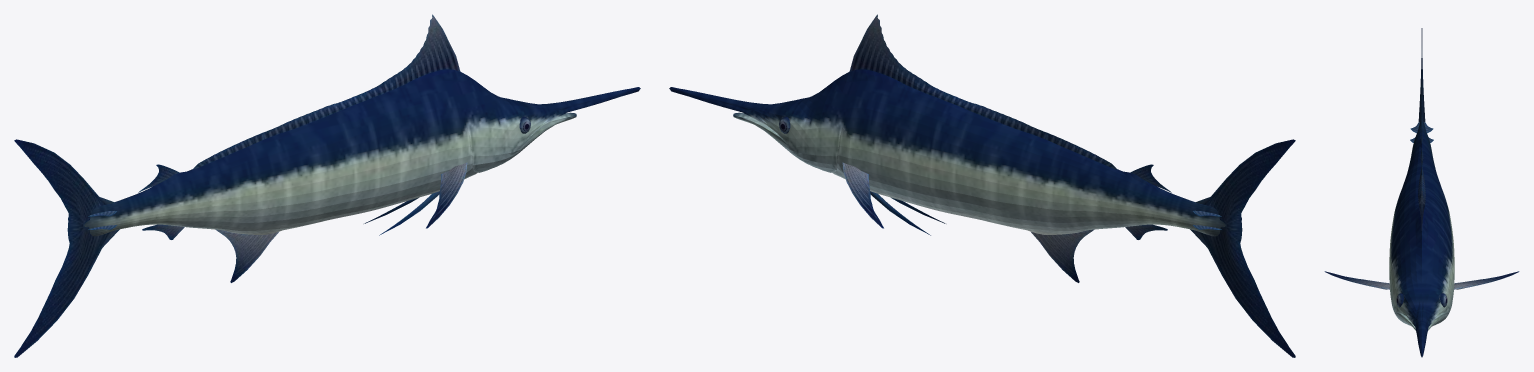
File: marlin.glb
3 renders of one model, left to right at view 1: azimuth 30°, elevation 25°; view 2: azimuth 150°, elevation 25°; view 3: azimuth 270°, elevation 25°, orthographic. The views are drawn at different scales.
Visible parts, largest first — view 1: marlin; view 2: marlin; view 3: marlin.
Part boxes in pixels (bbox=[...]): marlin: bbox=[14, 14, 640, 357]; marlin: bbox=[669, 14, 1295, 357]; marlin: bbox=[1324, 28, 1519, 357].
Size of the model in its own units: 1 by 0.3693 by 0.3198.
Materials: 1 (1 with a texture image).
